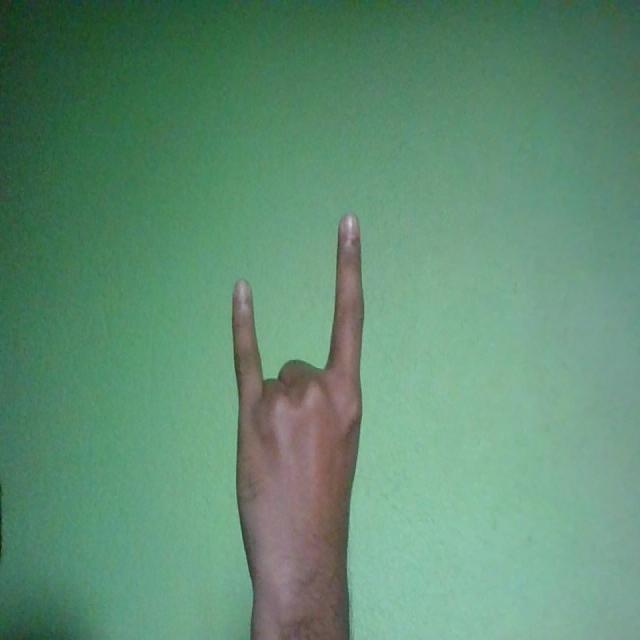open Plam: (231, 213, 365, 632)
